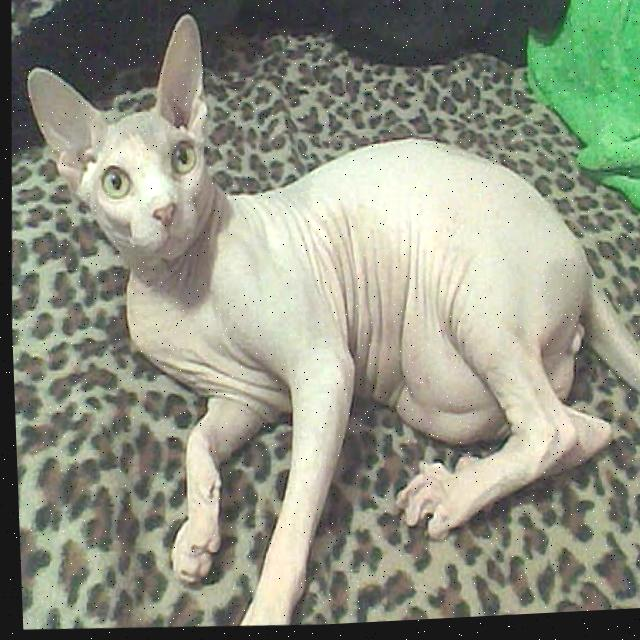Sphynx: (2, 0, 640, 640)
